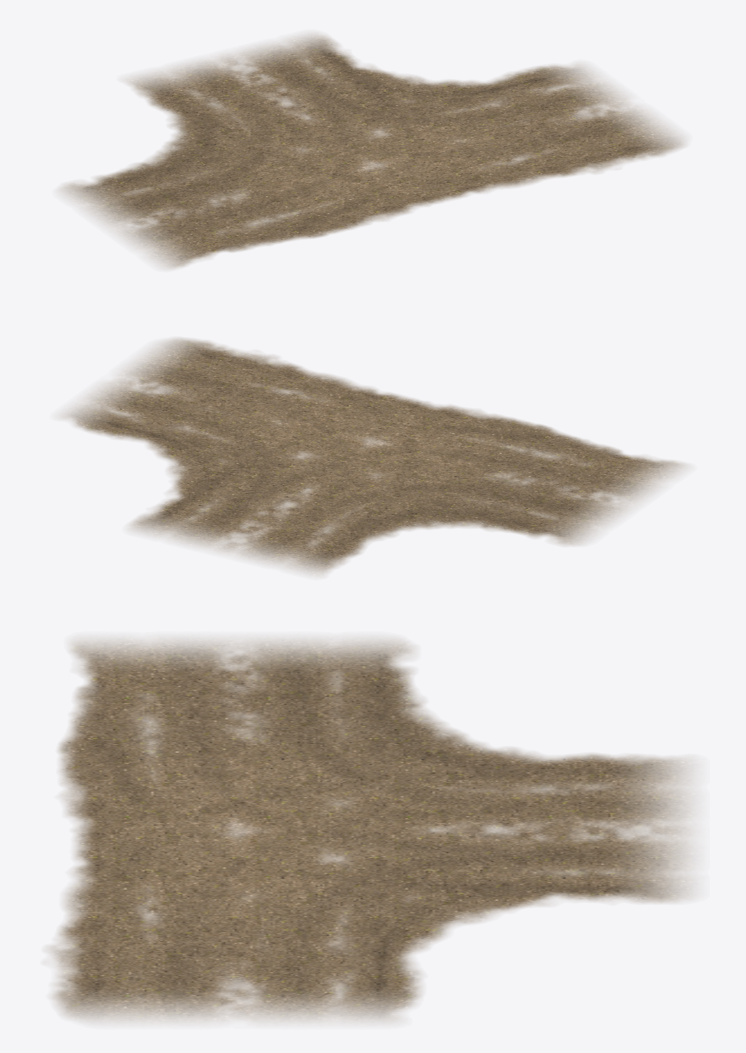
File: road_tee_street_street.glb
3 renders of one model, top to bottom at view 1: azimuth 30°, elevation 25°; view 2: azimuth 150°, elevation 25°; view 3: azimuth 270°, elevation 25°, orthographic. The views are drawn at different scales.
Visible parts, largest first — view 1: road_tee_street_street; view 2: road_tee_street_street; view 3: road_tee_street_street.
Boxes of the visible parts, x1,y1,x2,y2 form: road_tee_street_street: (60, 33, 684, 268); road_tee_street_street: (61, 338, 686, 575); road_tee_street_street: (48, 639, 692, 1021).
Bounding box in the file's own units: 17.5 × 0 × 12.75.
Materials: 1 (1 with a texture image).
